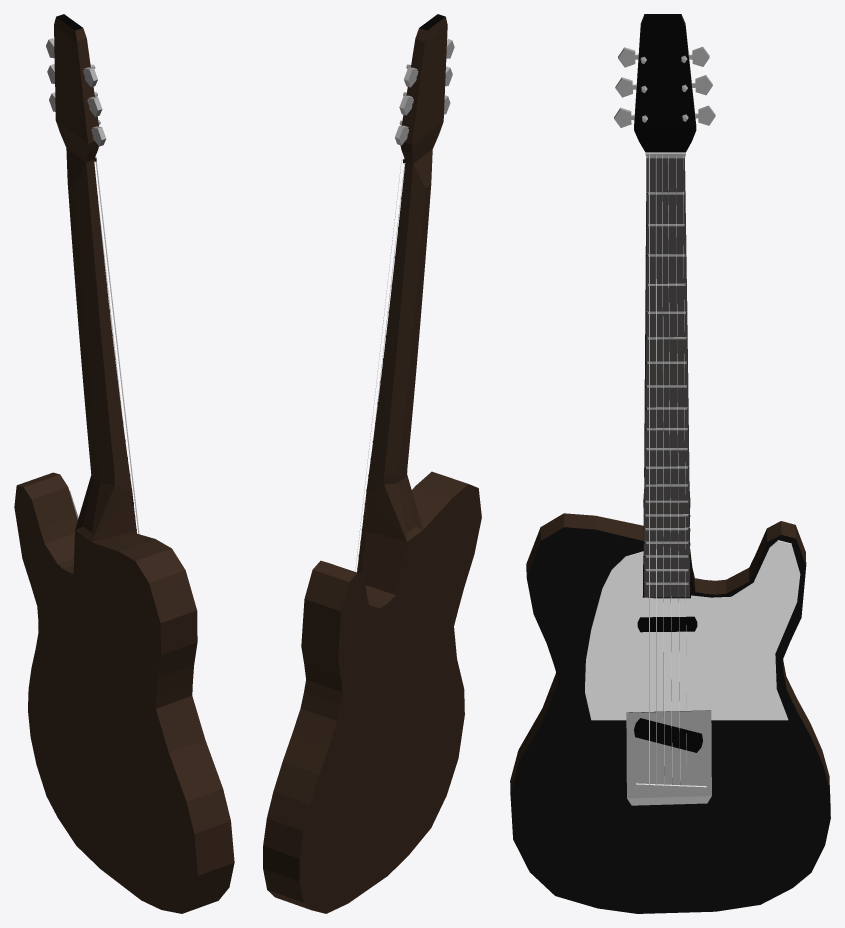
File: ELECTRIC_GUITAR.fbx
The picture shows the model from 3 angles, left to right: view 1: azimuth 30°, elevation 25°; view 2: azimuth 150°, elevation 25°; view 3: azimuth 270°, elevation 25°; orthographic projection. The views are drawn at different scales.
Visible parts, largest first — view 1: ELECTRIC_GUITAR; view 2: ELECTRIC_GUITAR; view 3: ELECTRIC_GUITAR.
Boxes of the visible parts, x1,y1,x2,y2 form: ELECTRIC_GUITAR: [14, 14, 234, 913]; ELECTRIC_GUITAR: [263, 14, 481, 913]; ELECTRIC_GUITAR: [510, 14, 830, 913].
Bounding box in the file's own units: 13.06 × 111 × 37.65.
